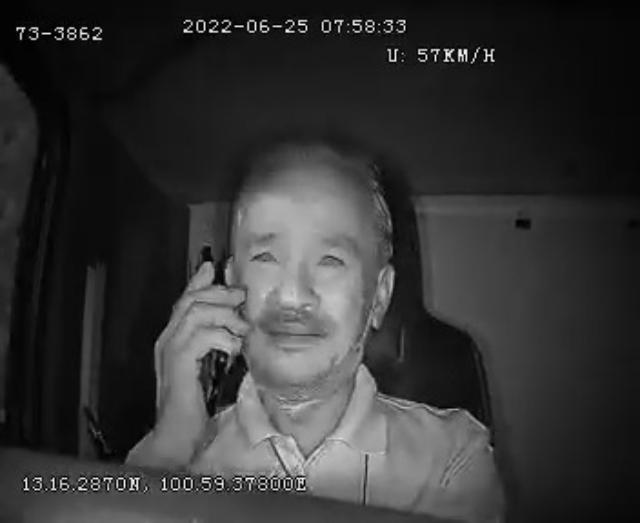PhoneUse: (186, 240, 232, 424)
SafeDriving: (309, 238, 355, 278), (242, 237, 284, 272)
